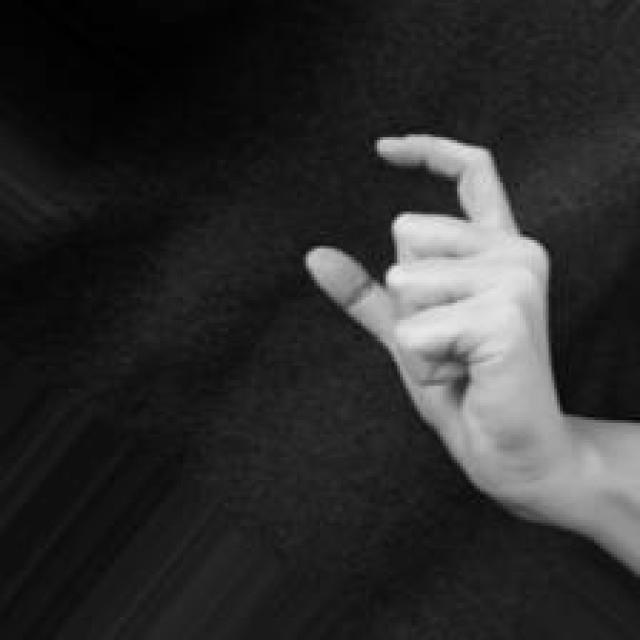C: (292, 125, 581, 531)
